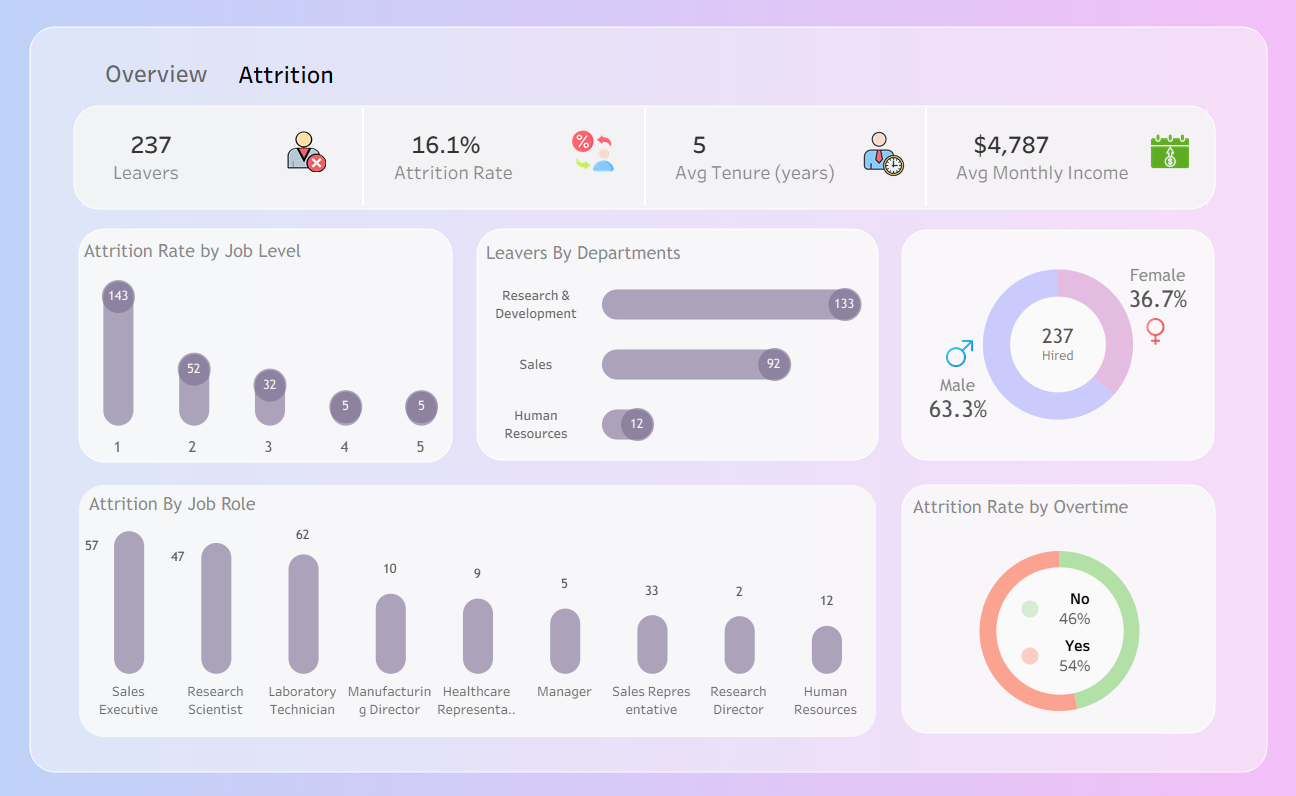

Layout of this report page (visuals, bound fields, positions):
{"tool":"tableau","page":{"name":"Attrition","canvas":[1300,800],"ordinal":0},"visuals":[{"type":"image","param":"Image/Blue - Pink Background.png","box":[0,0,1299,798]},{"type":"worksheet","title":"Ov DBack (2)","mark":"Automatic","box":[0,0,1300,800]},{"type":"dashboard-object","box":[93,50,130,50]},{"type":"text","box":[223,50,130,50]},{"type":"worksheet","title":"kpi (2)","mark":"Automatic","box":[84,109,1126,98]},{"type":"image","param":"Image/discount_6021693.png","box":[573,130,45,43]},{"type":"image","param":"Image/time-management_12794772.png","box":[862,131,51,47]},{"type":"image","param":"Image/1000047005.png","box":[289,132,41,41]},{"type":"image","param":"Image/profits_7896035.png","box":[1150,132,41,41]},{"type":"worksheet","title":"Attrition Rate by Job Level","mark":"Line","cols":["JobLevel"],"box":[82,237,379,221]},{"type":"worksheet","title":"Leavers By Departments","mark":"Line","rows":["Department"],"box":[484,239,389,216]},{"type":"worksheet","title":"leavers by Gender","mark":"Pie","cols":["Calculation_0766660180422659","Calculation_0766660180422659"],"box":[910,240,300,211]},{"type":"image","param":"Image/female_10050726.png","box":[1141,316,32,35]},{"type":"image","param":"Image/male_10050749.png","box":[945,338,32,35]},{"type":"worksheet","title":"Attrition By Job Role","mark":"Line","cols":["JobRole"],"box":[87,490,785,244]},{"type":"worksheet","title":"Attrition Rate by Overtime","mark":"Pie","cols":["Calculation_0605317151105035","Calculation_0605317151150093"],"box":[911,493,301,242]},{"type":"worksheet","title":"donet legent","mark":"Shape","rows":["OverTime"],"box":[969,586,126,95]}]}

Visuals, with their boxes in screenshot pixels (x1, y1, x2, y2), scaled from the page's 1300x800 canvas onto the 1296x796 screenshot:
image: Rect(0, 0, 1295, 794)
"Ov DBack (2)" worksheet: Rect(0, 0, 1295, 795)
dashboard-object: Rect(93, 50, 222, 100)
text: Rect(222, 50, 352, 100)
"kpi (2)" worksheet: Rect(84, 108, 1206, 206)
image: Rect(571, 129, 616, 172)
image: Rect(859, 130, 910, 177)
image: Rect(288, 131, 329, 172)
image: Rect(1146, 131, 1187, 172)
"Attrition Rate by Job Level" worksheet (Line marks): Rect(82, 236, 460, 456)
"Leavers By Departments" worksheet (Line marks): Rect(483, 238, 870, 453)
"leavers by Gender" worksheet (Pie marks): Rect(907, 239, 1206, 449)
image: Rect(1137, 314, 1169, 349)
image: Rect(942, 336, 974, 371)
"Attrition By Job Role" worksheet (Line marks): Rect(87, 488, 869, 730)
"Attrition Rate by Overtime" worksheet (Pie marks): Rect(908, 491, 1208, 731)
"donet legent" worksheet (Shape marks): Rect(966, 583, 1092, 678)
